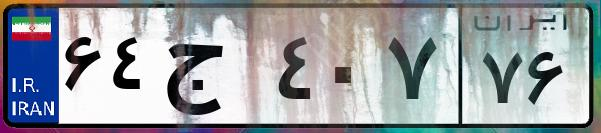0: (330, 28, 385, 110)
4: (270, 28, 330, 110), (110, 28, 158, 98)
6: (57, 26, 110, 100), (525, 38, 570, 115)
7: (385, 28, 445, 110), (475, 38, 525, 113)
ج: (158, 20, 270, 120)
